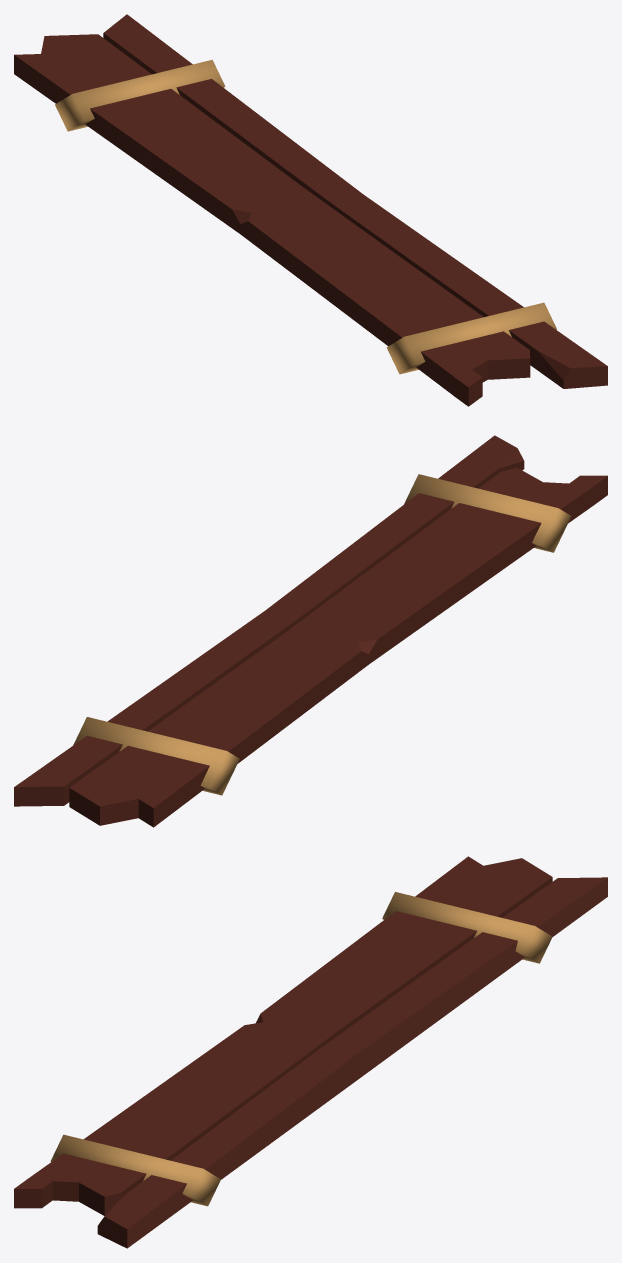
The model's file is SM_Bridge_Plank_D.fbx.
3 views of the same model, one above another, from view 1: azimuth 30°, elevation 25°; view 2: azimuth 150°, elevation 25°; view 3: azimuth 330°, elevation 25° (orthographic).
Visible parts, largest first — view 1: SM_Plank_D.001; view 2: SM_Plank_D.001; view 3: SM_Plank_D.001.
Part boxes in pixels (bbox=[...]): SM_Plank_D.001: bbox=[14, 14, 607, 406]; SM_Plank_D.001: bbox=[14, 435, 607, 827]; SM_Plank_D.001: bbox=[14, 856, 607, 1248].
Bounding box in the file's own units: 151 × 897 × 42.46.
